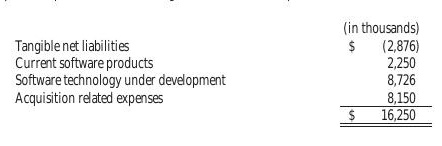table: (0, 0, 442, 146)
